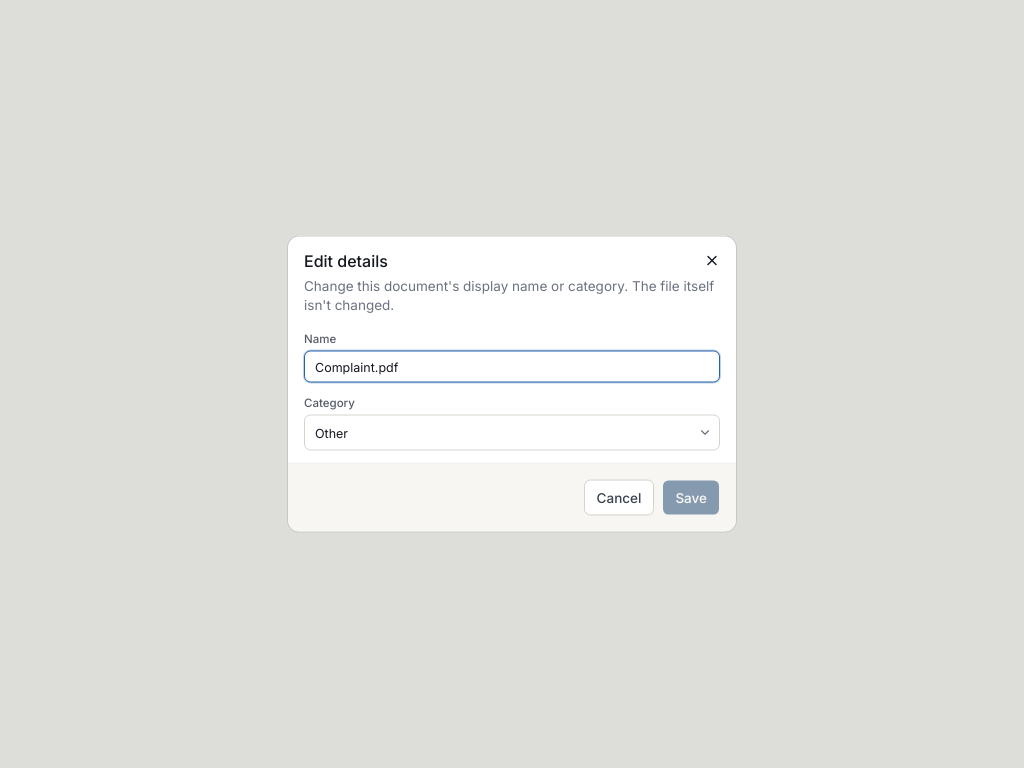
Scenario: EditDocumentDialog › a server error shows and keeps the dialog open
The width and height of the screenshot is (1024, 768).
Select "Filing" in the dropdown labelled "Category": (512, 432) [304, 414, 720, 450]
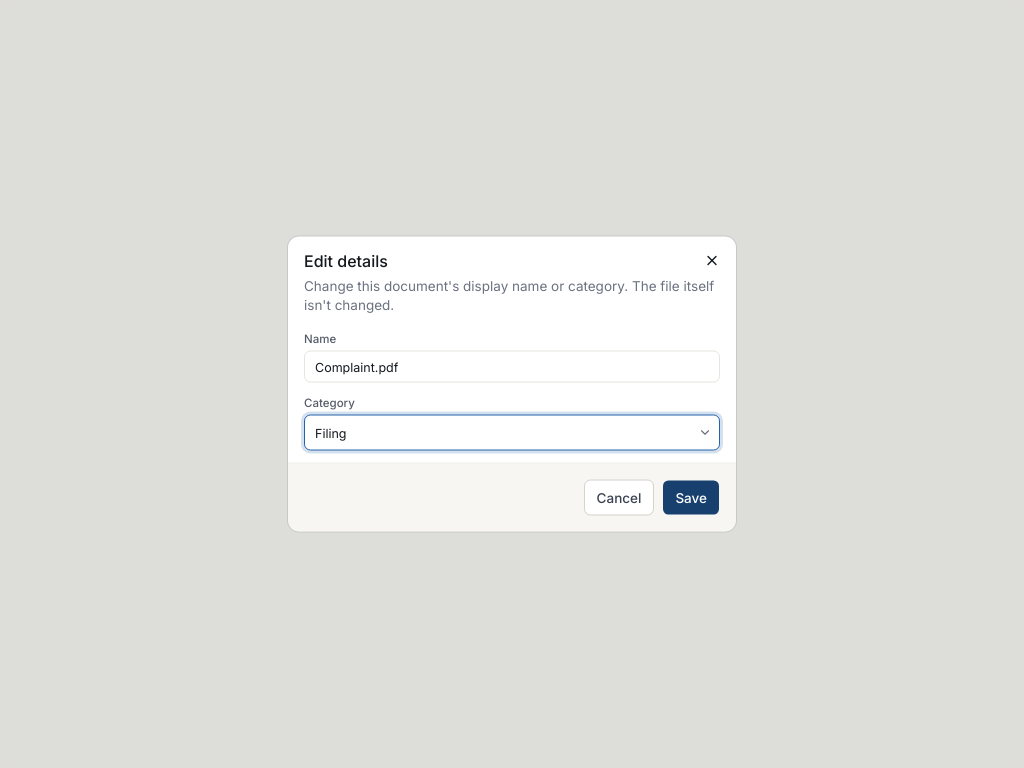
Click the button "Save": (691, 498) [662, 480, 720, 516]
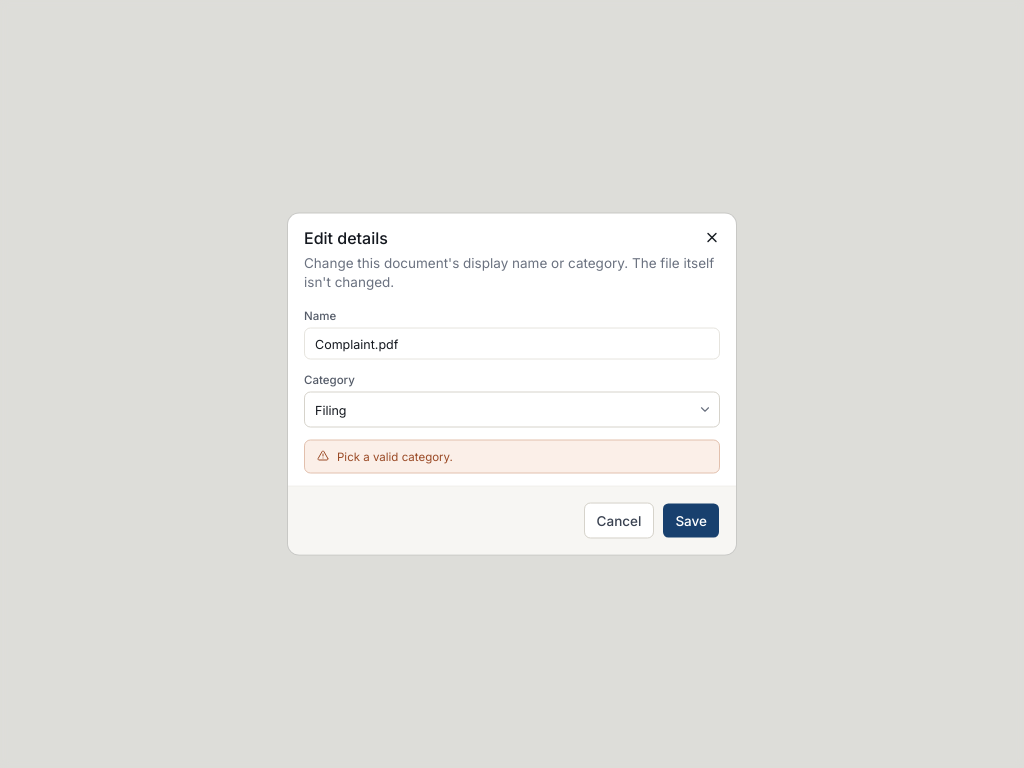
Result: the message reads "Pick a valid category." at [337, 450, 453, 464]
